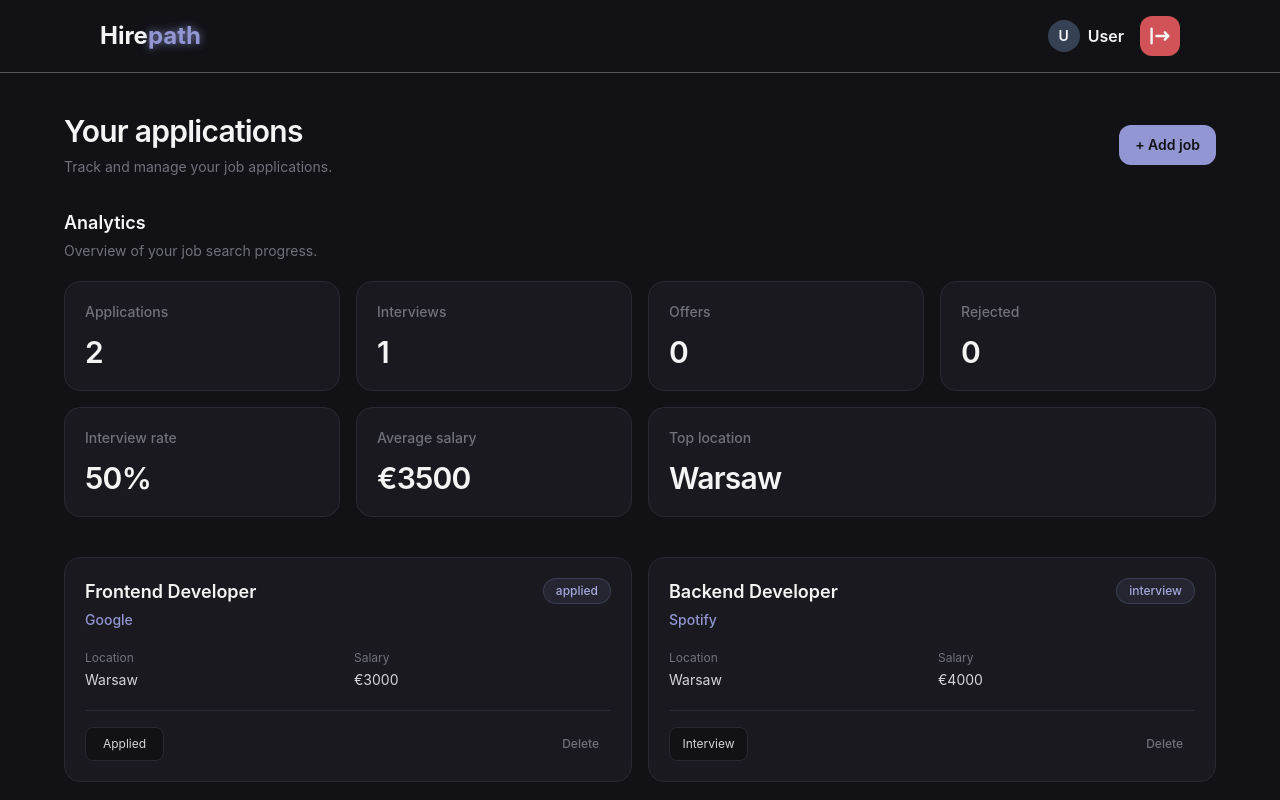
DashboardPage › should delete a job
Expected: the list item "Frontend Developer" is shown, [64,557,632,782]
Click the button "Delete" below "3000": (581, 744) [550,728,611,760]
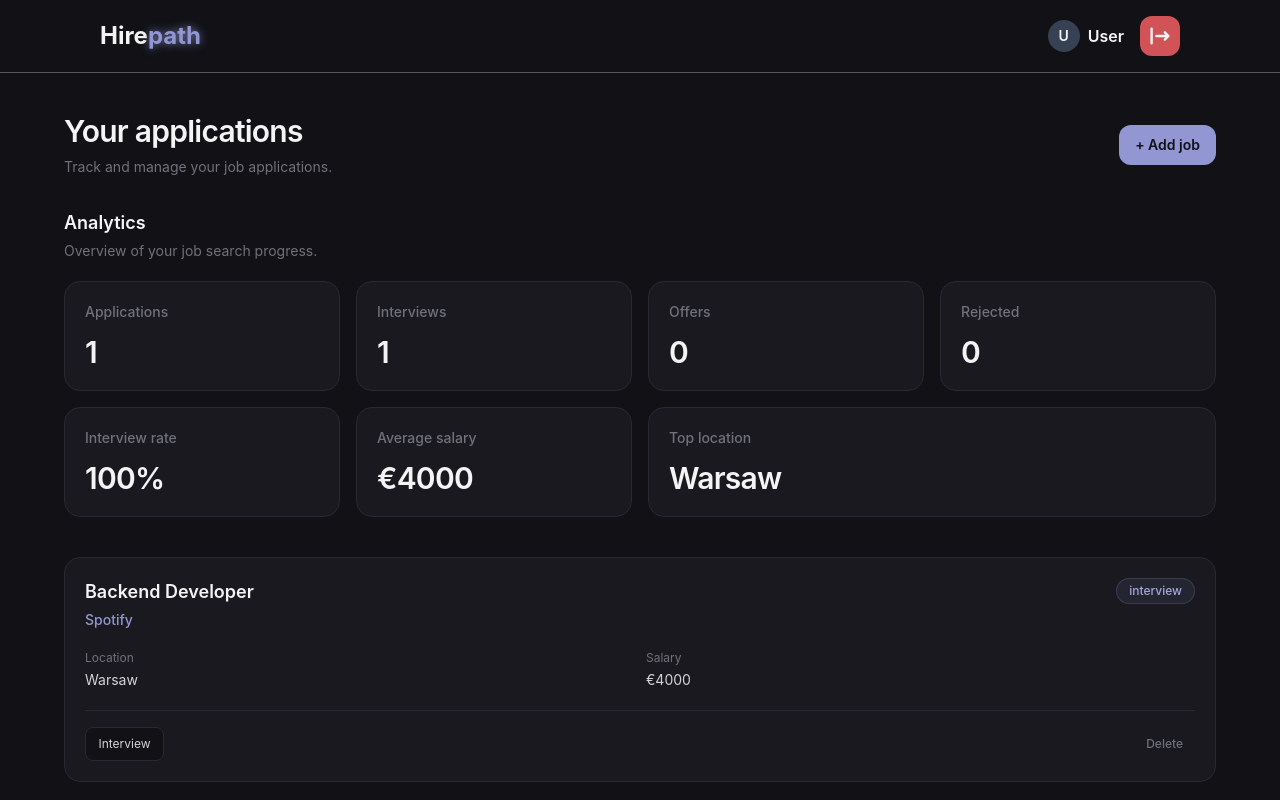
Expected: the heading "Backend Developer" is shown, [85,578,254,606]
Expected: the heading "Frontend Developer" is gone
